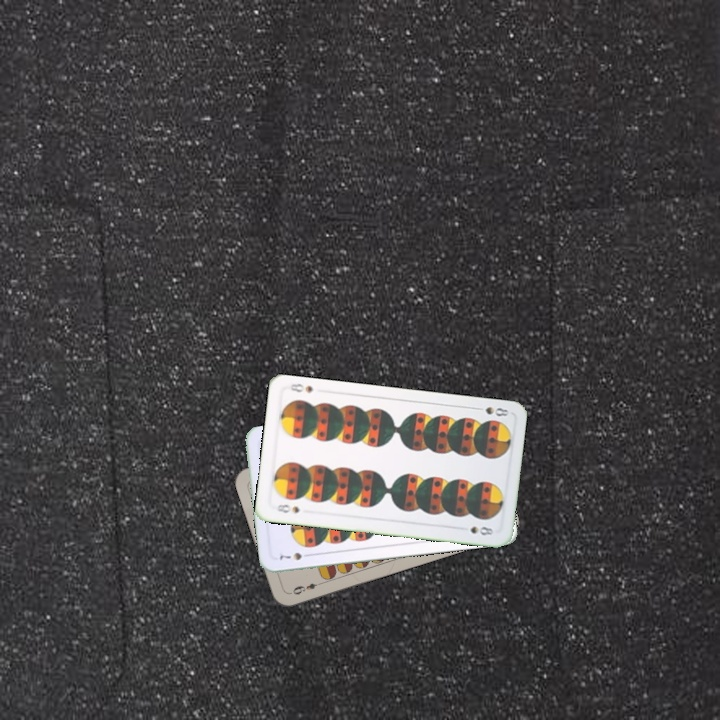E9: (289, 578, 325, 597)
S7: (275, 548, 314, 563)
S8: (471, 402, 511, 419), (271, 500, 302, 516)
